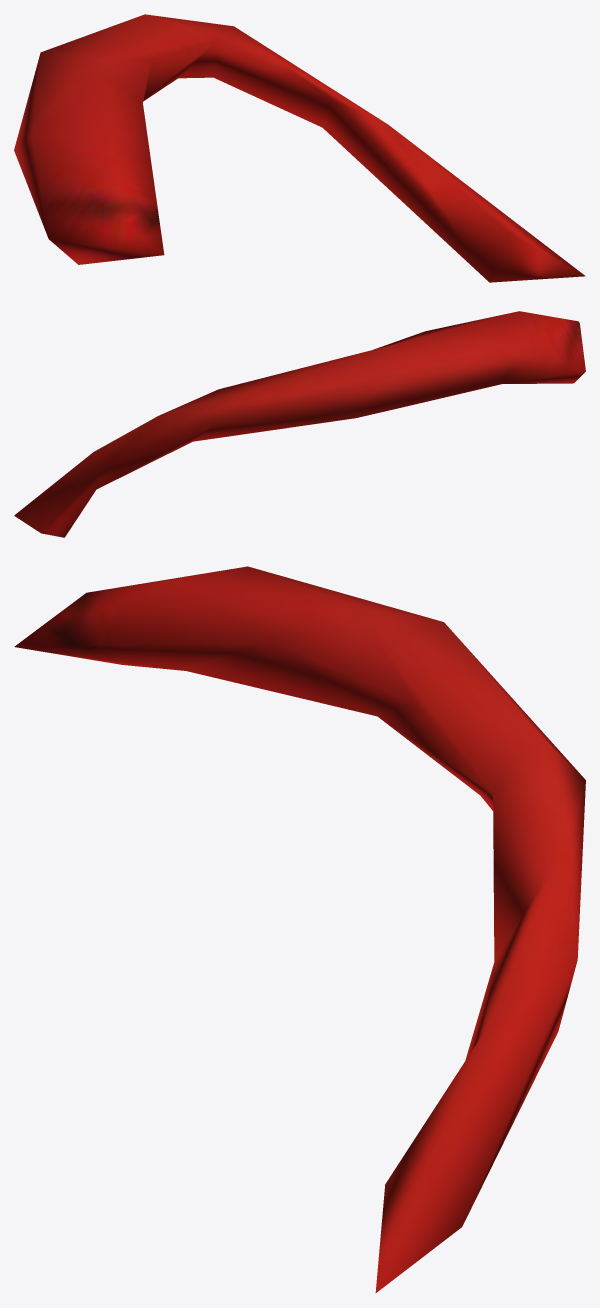
Rendered from Orbital_Muscle_04.glb.
3 views of the same model, one above another, from view 1: azimuth 30°, elevation 25°; view 2: azimuth 150°, elevation 25°; view 3: azimuth 270°, elevation 25° (orthographic). The views are drawn at different scales.
Parts seen in each view (by area): view 1: Orbital_Mucle_04; view 2: Orbital_Mucle_04; view 3: Orbital_Mucle_04.
Part boxes in pixels (x1=…): Orbital_Mucle_04: x1=14, y1=14, x2=585, y2=282; Orbital_Mucle_04: x1=14, y1=311, x2=585, y2=537; Orbital_Mucle_04: x1=14, y1=566, x2=585, y2=1292.
Size of the model in its own units: 0.0475 by 0.0245 by 0.0318.
1 material, 1 textured.
